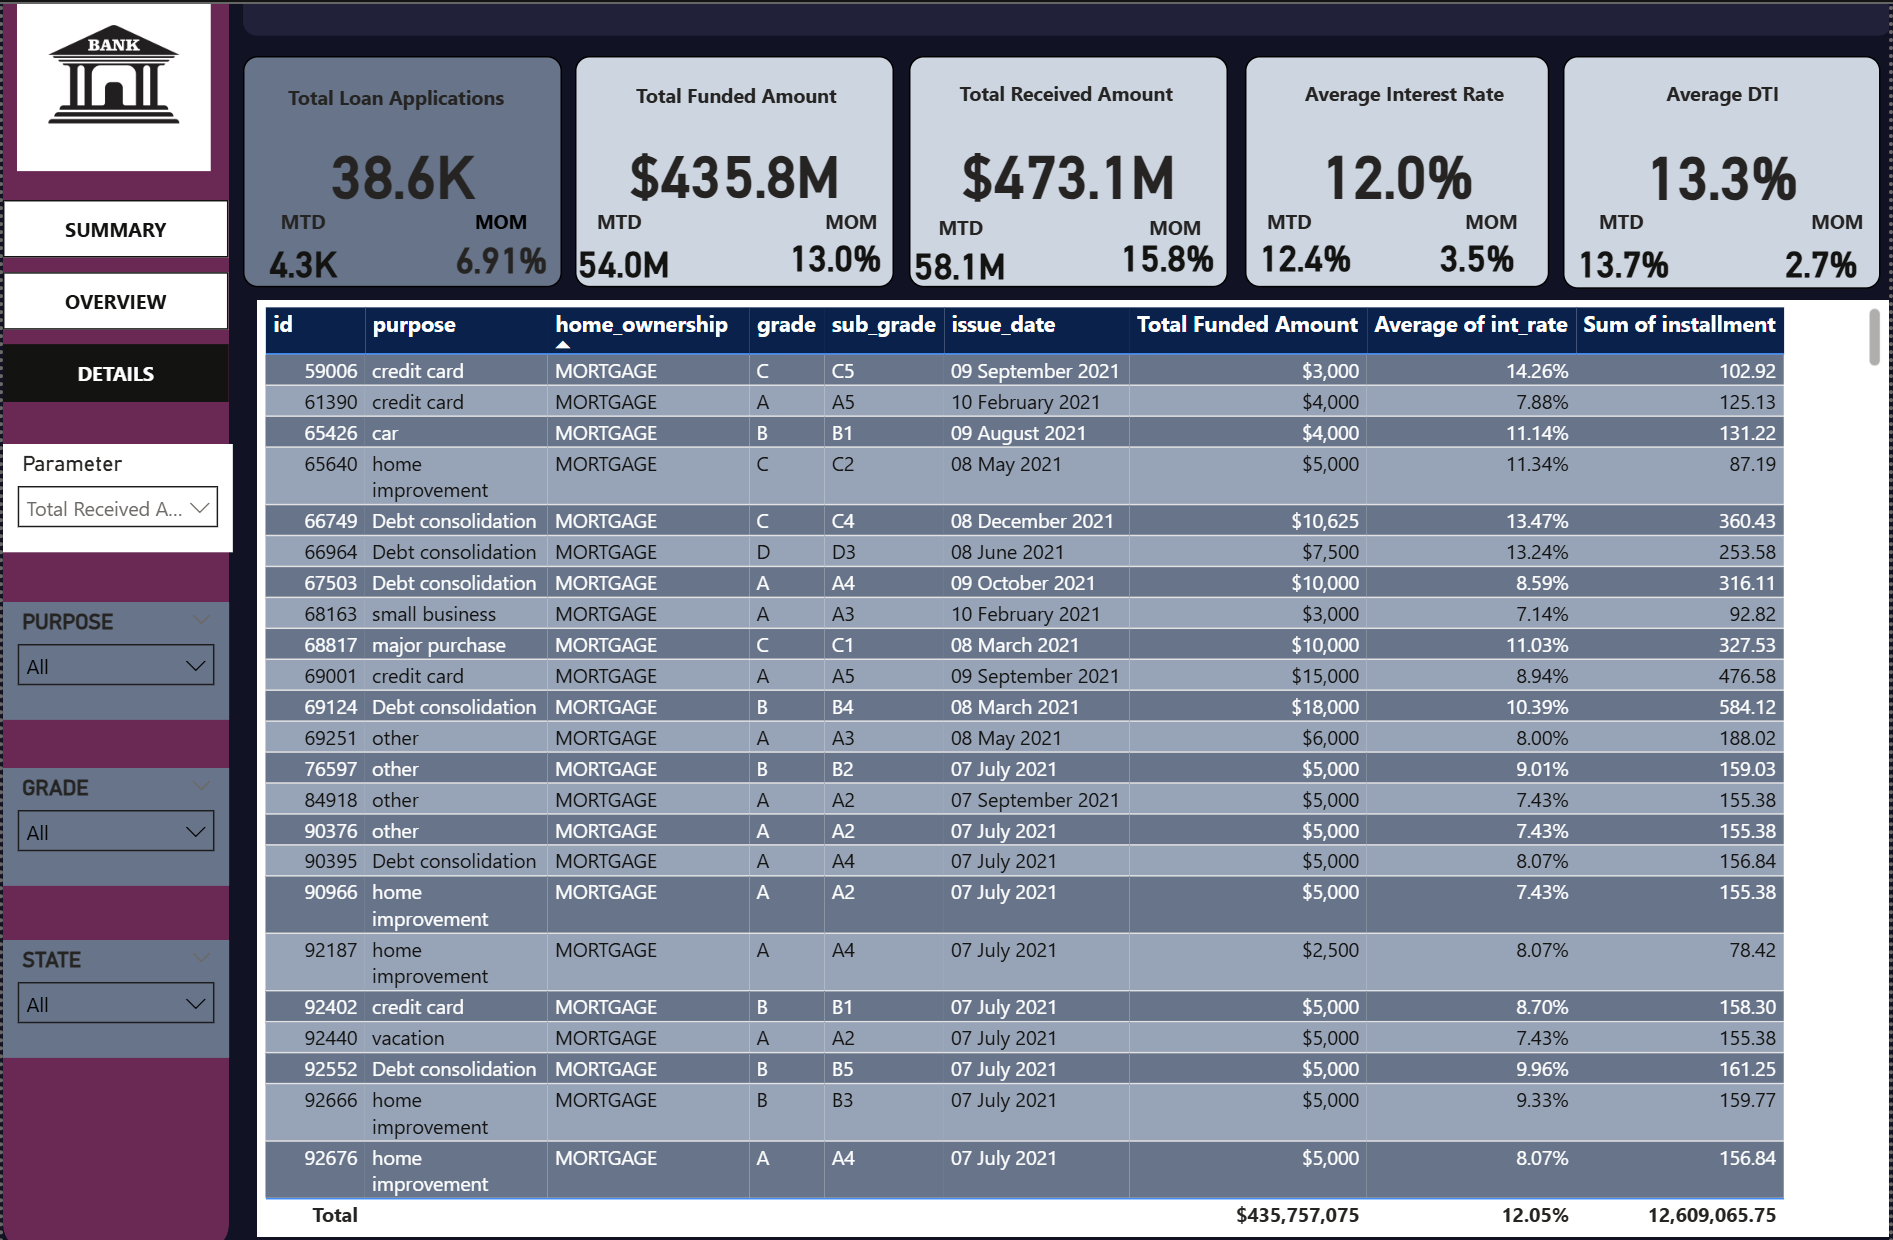

Layout of this report page (visuals, bound fields, positions):
{"tool":"powerbi","page":{"name":"DETAILS","canvas":[1280,900],"ordinal":2},"visuals":[{"type":"shape","box":[163.2,0,1119.4,66.3],"z":0},{"type":"textbox","box":[530.4,0,470.4,66.3],"z":1000},{"type":"shape","box":[0,0,153.4,890.5],"z":2000},{"type":"card","fields":{"Values":["financial_loan_full.Total Loan Applications"]},"box":[163.2,80.3,216.7,156.8],"z":3000},{"type":"textbox","box":[172.1,93.1,188.7,31.9],"z":4000},{"type":"card","fields":{"Values":["financial_loan_full.MTD Loan Application"]},"box":[172.1,205.3,62.5,31.9],"z":5000},{"type":"textbox","box":[172.1,177.2,62.5,28],"z":6000},{"type":"textbox","box":[295.8,177.2,84.1,28],"z":7000},{"type":"card","title":"Total Funded Amount","fields":{"Values":["financial_loan_full.Total Funded Amount"]},"box":[388.8,80.3,216.7,156.8],"z":8000},{"type":"card","fields":{"Values":["financial_loan_full.Total Received Amount"]},"box":[614.5,80.3,216.7,156.8],"z":9000},{"type":"card","fields":{"Values":["financial_loan_full.Average Interest Rate"]},"box":[842.7,80.3,206.5,156.8],"z":10000},{"type":"card","fields":{"Values":["financial_loan_full.Average DTI"]},"box":[1059.4,80.3,215.5,158.1],"z":11000},{"type":"card","fields":{"Values":["financial_loan_full.MOM Loan Application"]},"box":[286.9,196.3,103.3,42.1],"z":12000},{"type":"textbox","box":[406.7,91.8,181,31.9],"z":13000},{"type":"textbox","box":[388.8,177.2,59.9,28],"z":14000},{"type":"textbox","box":[545.7,177.2,59.9,28],"z":15000},{"type":"card","fields":{"Values":["financial_loan_full.MTD Funded Amount"]},"box":[379.9,205.3,81.6,31.9],"z":16000},{"type":"card","fields":{"Values":["financial_loan_full.MOM Funded Amount"]},"box":[524,201.4,81.6,31.9],"z":17000},{"type":"textbox","box":[628.5,90.5,186.1,34.4],"z":18000},{"type":"textbox","box":[614.5,182.3,70.1,28],"z":19000},{"type":"textbox","box":[766.2,182.3,59.9,28],"z":20000},{"type":"card","fields":{"Values":["financial_loan_full.MTD Recieved Amount"]},"box":[608.1,206.5,81.6,31.9],"z":21000},{"type":"card","fields":{"Values":["financial_loan_full.MOM Received Amount"]},"box":[749.6,201.4,81.6,31.9],"z":22000},{"type":"textbox","box":[860.6,90.5,181,31.9],"z":23000},{"type":"textbox","box":[970.2,178.5,79,28],"z":24000},{"type":"textbox","box":[842.7,178.5,59.9,28],"z":25000},{"type":"card","fields":{"Values":["financial_loan_full.MTD Average rate"]},"box":[842.7,201.4,81.6,31.9],"z":26000},{"type":"card","fields":{"Values":["financial_loan_full.MOM Average Interest Rate"]},"box":[960,201.4,81.6,31.9],"z":27000},{"type":"textbox","box":[1068.4,90.5,197.6,31.9],"z":28000},{"type":"textbox","box":[1215,178.5,59.9,28],"z":29000},{"type":"textbox","box":[1068.4,178.5,59.9,28],"z":30000},{"type":"card","fields":{"Values":["financial_loan_full.MTD average DTI"]},"box":[1059.4,205.3,81.6,31.9],"z":31000},{"type":"card","fields":{"Values":["financial_loan_full.MOM Average DTI"]},"box":[1193.3,205.3,81.6,31.9],"z":32000},{"type":"card","fields":{"Values":["financial_loan_full.Good Loan %"]},"box":[266.1,397.7,101.8,62.4],"z":33000},{"type":"card","fields":{"Values":["financial_loan_full.Bad Loan %"]},"box":[832.1,397.7,103.2,62.4],"z":34000},{"type":"slicer","fields":{"Values":["financial_loan_full.purpose"]},"box":[0,450.7,153.4,80.1],"z":35000},{"type":"slicer","fields":{"Values":["financial_loan_full.grade"]},"box":[0,563.3,153.4,80.1],"z":36000},{"type":"slicer","fields":{"Values":["financial_loan_full.address_state"]},"box":[0,680.1,153.4,80.1],"z":37000},{"type":"slicer","fields":{"Values":["Parameter.Parameter"]},"box":[0,343.4,156.1,73.3],"z":38000},{"type":"actionButton","box":[0,0,100,40],"z":39000},{"type":"tableEx","fields":{"Values":["financial_loan_full.id","financial_loan_full.purpose","financial_loan_full.home_ownership","financial_loan_full.grade","financial_loan_full.sub_grade","financial_loan_full.issue_date","financial_loan_full.Total Funded Amount","Avg(financial_loan_full.int_rate)","Sum(financial_loan_full.installment)"]},"box":[172.4,245.7,1107.7,635.3],"z":40000},{"type":"pageNavigator","box":[0,177.8,153.4,139.8],"z":41000},{"type":"image","box":[0,21.4,150,141.4],"z":41001}]}

Visuals, with their boxes on the page's 1280x900 design canvas (x1, y1, x2, y2). These are canvas units, not pixel positions in the 1893x1240 screenshot, which may show the page scaled, cropped or inside an application window:
shape: BBox(163, 0, 1283, 66)
textbox: BBox(530, 0, 1001, 66)
shape: BBox(0, 0, 153, 890)
card - financial_loan_full.Total Loan Applications: BBox(163, 80, 380, 237)
textbox: BBox(172, 93, 361, 125)
card - financial_loan_full.MTD Loan Application: BBox(172, 205, 235, 237)
textbox: BBox(172, 177, 235, 205)
textbox: BBox(296, 177, 380, 205)
"Total Funded Amount" card: BBox(389, 80, 606, 237)
card - financial_loan_full.Total Received Amount: BBox(614, 80, 831, 237)
card - financial_loan_full.Average Interest Rate: BBox(843, 80, 1049, 237)
card - financial_loan_full.Average DTI: BBox(1059, 80, 1275, 238)
card - financial_loan_full.MOM Loan Application: BBox(287, 196, 390, 238)
textbox: BBox(407, 92, 588, 124)
textbox: BBox(389, 177, 449, 205)
textbox: BBox(546, 177, 606, 205)
card - financial_loan_full.MTD Funded Amount: BBox(380, 205, 462, 237)
card - financial_loan_full.MOM Funded Amount: BBox(524, 201, 606, 233)
textbox: BBox(628, 90, 815, 125)
textbox: BBox(614, 182, 685, 210)
textbox: BBox(766, 182, 826, 210)
card - financial_loan_full.MTD Recieved Amount: BBox(608, 206, 690, 238)
card - financial_loan_full.MOM Received Amount: BBox(750, 201, 831, 233)
textbox: BBox(861, 90, 1042, 122)
textbox: BBox(970, 178, 1049, 206)
textbox: BBox(843, 178, 903, 206)
card - financial_loan_full.MTD Average rate: BBox(843, 201, 924, 233)
card - financial_loan_full.MOM Average Interest Rate: BBox(960, 201, 1042, 233)
textbox: BBox(1068, 90, 1266, 122)
textbox: BBox(1215, 178, 1275, 206)
textbox: BBox(1068, 178, 1128, 206)
card - financial_loan_full.MTD average DTI: BBox(1059, 205, 1141, 237)
card - financial_loan_full.MOM Average DTI: BBox(1193, 205, 1275, 237)
card - financial_loan_full.Good Loan %: BBox(266, 398, 368, 460)
card - financial_loan_full.Bad Loan %: BBox(832, 398, 935, 460)
slicer - financial_loan_full.purpose: BBox(0, 451, 153, 531)
slicer - financial_loan_full.grade: BBox(0, 563, 153, 643)
slicer - financial_loan_full.address_state: BBox(0, 680, 153, 760)
slicer - Parameter.Parameter: BBox(0, 343, 156, 417)
actionButton: BBox(0, 0, 100, 40)
tableEx - financial_loan_full.id x financial_loan_full.purpose: BBox(172, 246, 1280, 881)
pageNavigator: BBox(0, 178, 153, 318)
image: BBox(0, 21, 150, 163)
